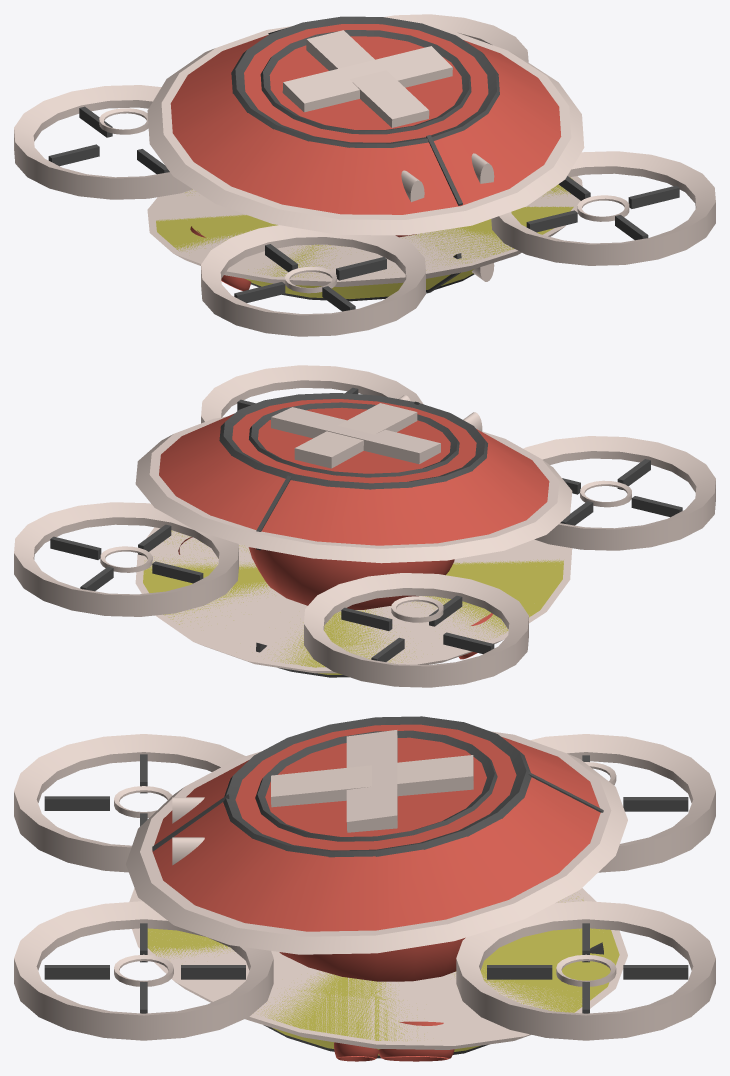
File: enemy03.fbx
3 views of the same model, one above another, from view 1: azimuth 30°, elevation 25°; view 2: azimuth 150°, elevation 25°; view 3: azimuth 270°, elevation 25° (orthographic). The views are drawn at different scales.
Parts seen in each view (by area): view 1: pCylinder14, pCylinder15, pCylinder18, pasted__pPipe10, pasted__pPipe11, pasted__pPipe12, pCylinder17, pCylinder16, pCube17, pCube16, pCylinder21, pasted__pPipe9 (+8 smaller); view 2: pCylinder14, pCylinder18, pasted__pPipe12, pCylinder15, pasted__pPipe9, pCylinder17, pasted__pPipe10, pSphere11, pasted__pPipe11, pCylinder16, pCube17, pCube16 (+9 smaller); view 3: pCylinder14, pCylinder18, pCylinder15, pasted__pPipe9, pCylinder17, pasted__pPipe11, pasted__pPipe10, pasted__pPipe12, pCylinder16, pCube16, pCube17, pSphere11 (+13 smaller).
Boxes of the visible parts, <box> form: pCylinder14: <box>170,24,561,214</box>; pCylinder15: <box>147,26,584,235</box>; pCylinder18: <box>147,176,582,286</box>; pasted__pPipe10: <box>201,225,425,336</box>; pasted__pPipe11: <box>491,151,715,265</box>; pasted__pPipe12: <box>14,85,192,199</box>; pCylinder17: <box>156,177,573,299</box>; pCylinder16: <box>231,16,499,147</box>; pCube17: <box>282,46,452,112</box>; pCube16: <box>306,30,429,127</box>; pCylinder21: <box>260,30,471,134</box>; pasted__pPipe9: <box>384,14,528,62</box>; pCylinder14: <box>159,399,549,545</box>; pCylinder18: <box>135,527,572,673</box>; pasted__pPipe12: <box>304,573,528,687</box>; pCylinder15: <box>135,416,572,563</box>; pasted__pPipe9: <box>14,502,238,616</box>; pCylinder17: <box>143,530,563,674</box>; pasted__pPipe10: <box>523,436,715,550</box>; pSphere11: <box>248,547,454,609</box>; pasted__pPipe11: <box>201,365,423,423</box>; pCylinder16: <box>219,393,487,489</box>; pCube17: <box>271,407,440,464</box>; pCube16: <box>294,403,417,468</box>; pCylinder14: <box>152,724,600,931</box>; pCylinder18: <box>129,888,627,1049</box>; pCylinder15: <box>126,731,627,954</box>; pasted__pPipe9: <box>456,901,715,1040</box>; pCylinder17: <box>147,895,619,1055</box>; pasted__pPipe11: <box>14,901,273,1040</box>; pasted__pPipe10: <box>14,734,245,872</box>; pasted__pPipe12: <box>530,734,715,872</box>; pCylinder16: <box>223,716,531,857</box>; pCube16: <box>271,755,473,807</box>; pCube17: <box>346,730,397,832</box>; pSphere11: <box>279,937,465,981</box>.
Size of the model in its own units: 160 by 64.65 by 168.
